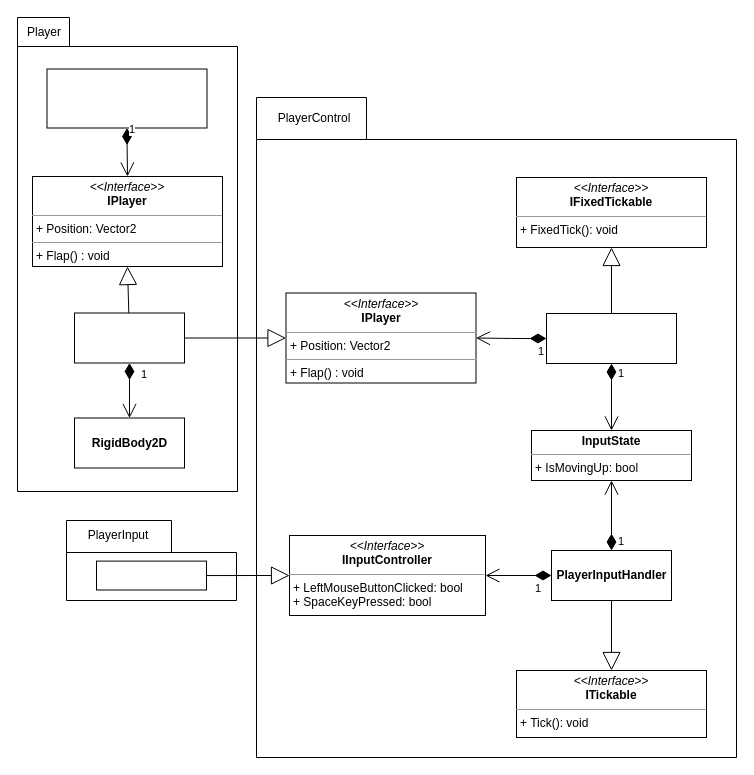
Image size: 754x775. Some labels were removed from this diagram. The centre of each missing label's shape, as x and y in pixels:
InputController: (151,575)
PlayerFacade + Position: Vector2: (126,98)
PlayerMoveHandler: (611,338)
Softozor: (129,337)
